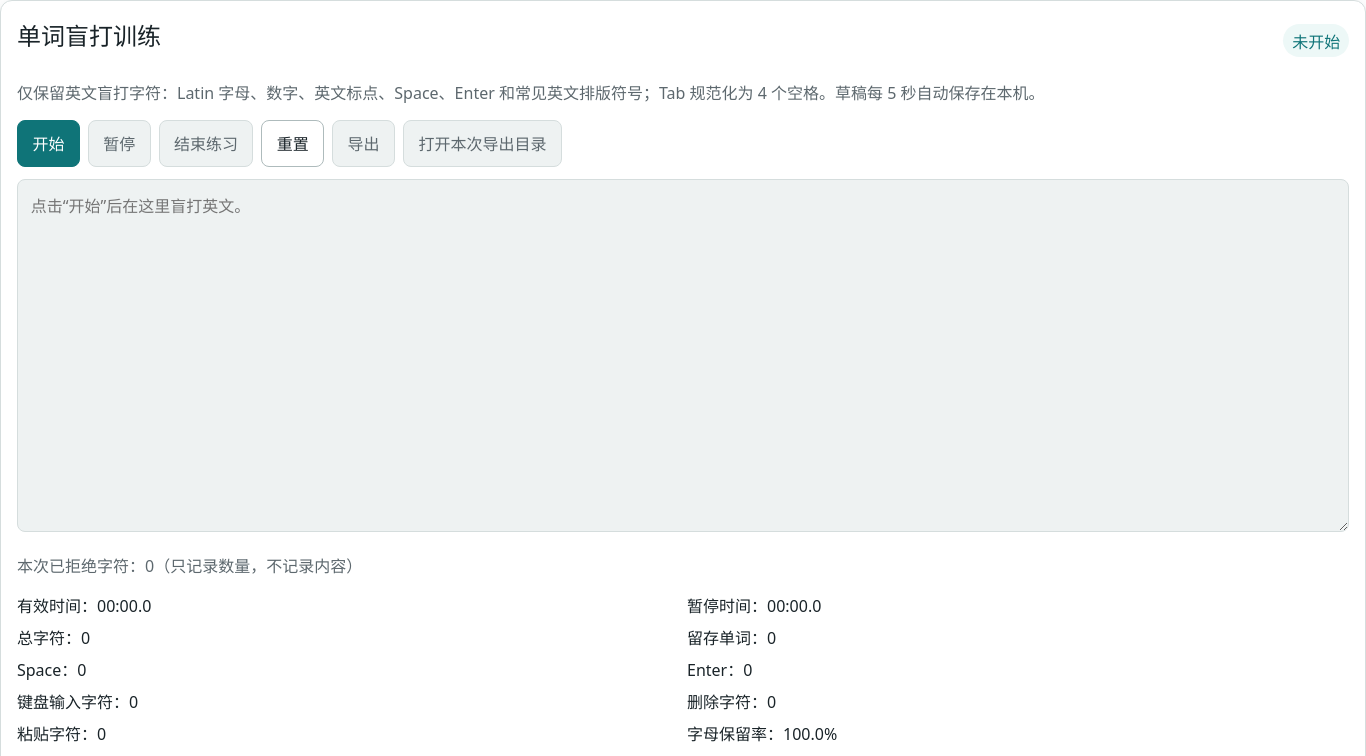
Test: R006.2 Typing pause shortcut › uses the configured toggle_pause action while the Typing textarea has focus
Click the button "开始".
click(48, 143)  # box [17, 120, 80, 167]
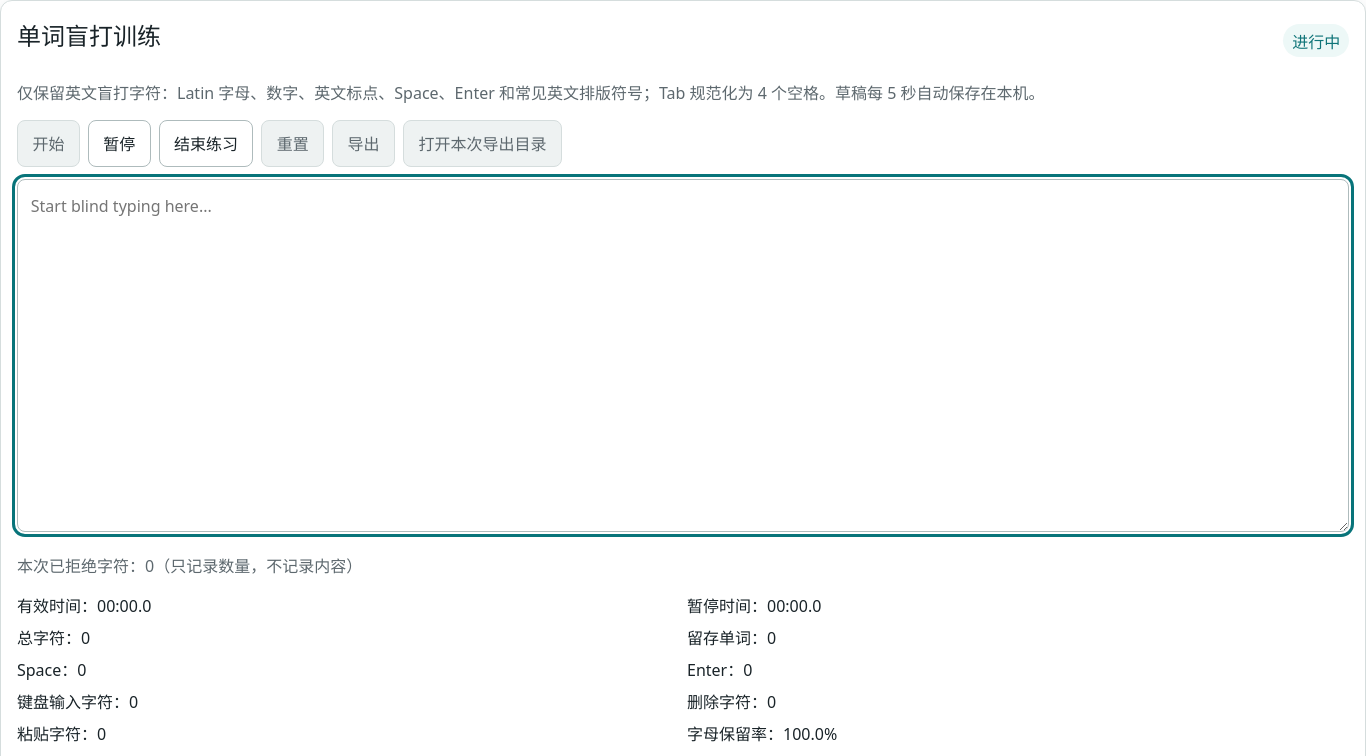
Press F8 in the text box named "单词盲打输入区", box [17, 179, 1349, 532]
Check: the text "进行中" is shown, box [1283, 24, 1349, 57]
Press F1 in the text box named "单词盲打输入区", box [17, 179, 1349, 532]
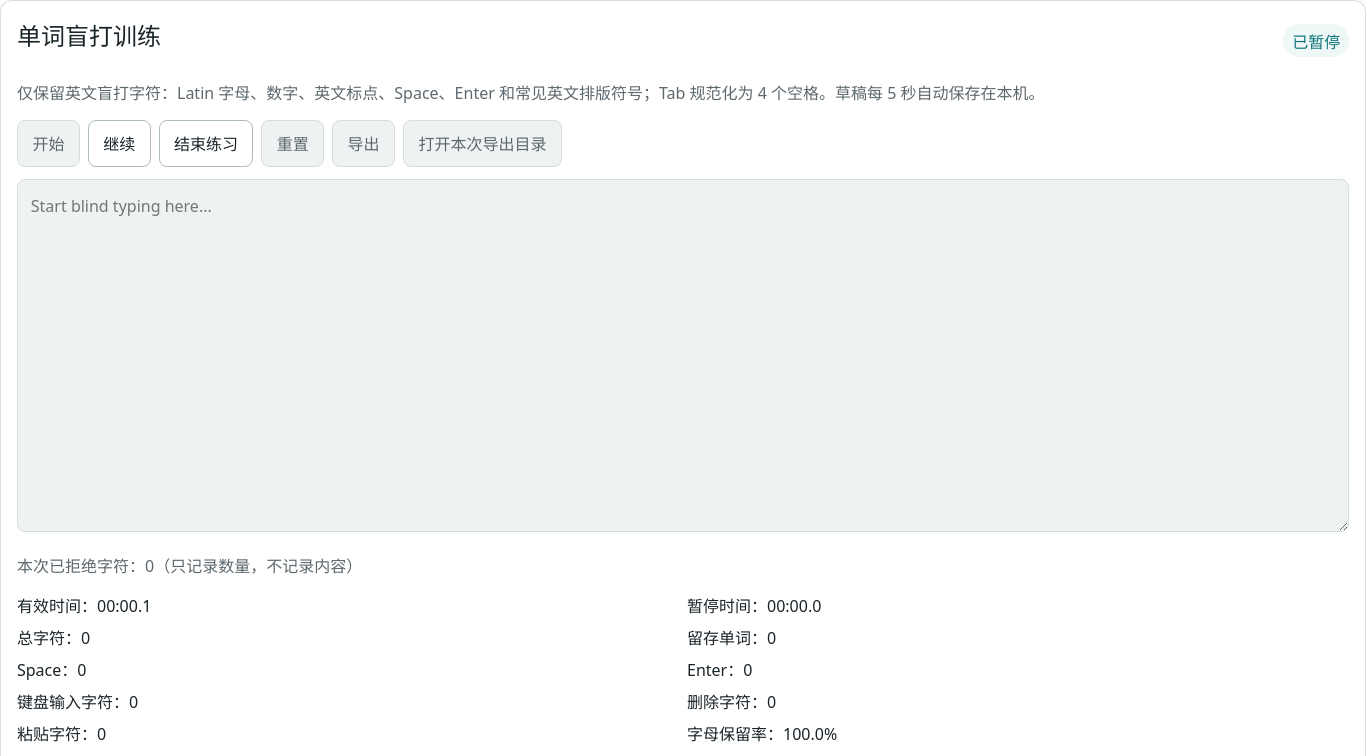
Check: the text "已暂停" is shown, box [1283, 24, 1349, 57]
Press F1
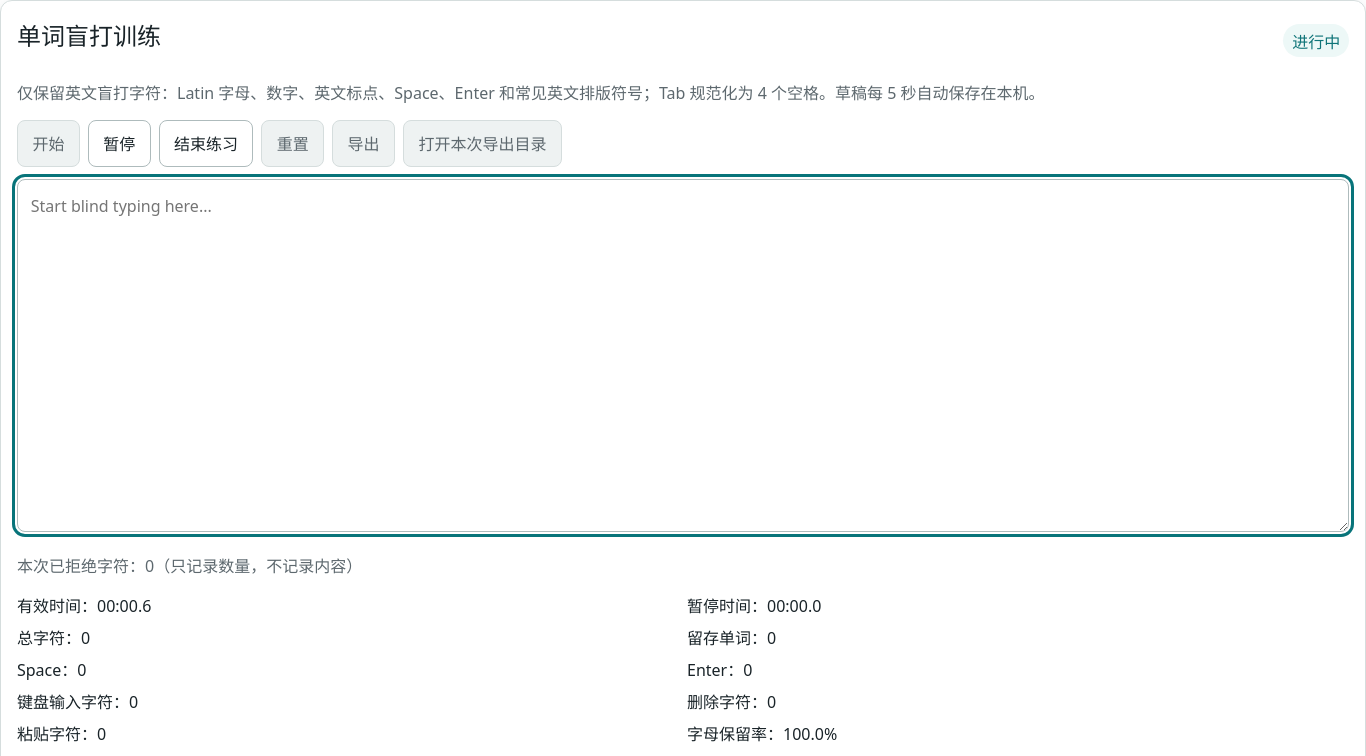
Check: the text "进行中" is shown, box [1283, 24, 1349, 57]
